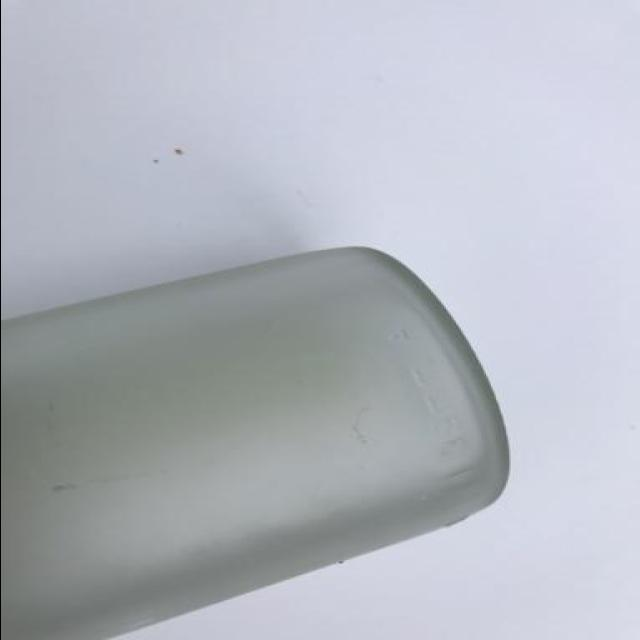litter: (0, 245, 514, 639)
